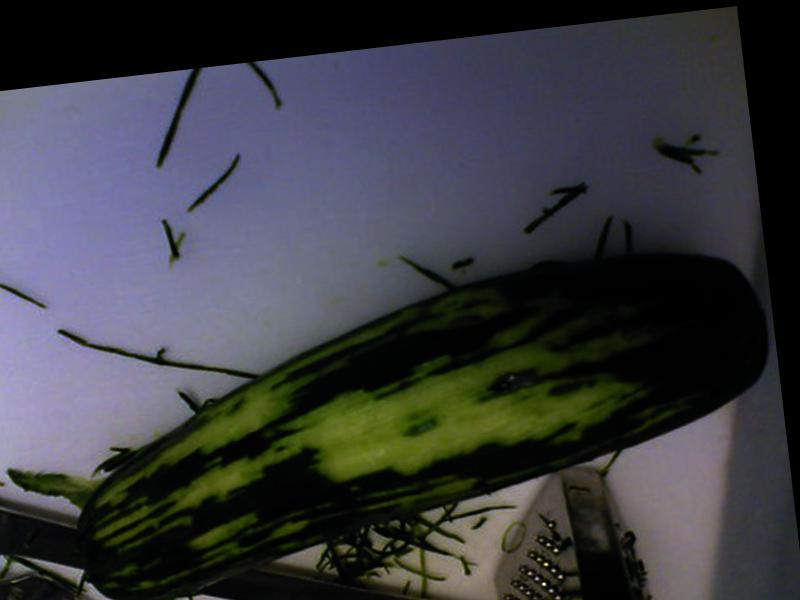Cucumber: (49, 238, 790, 600)
